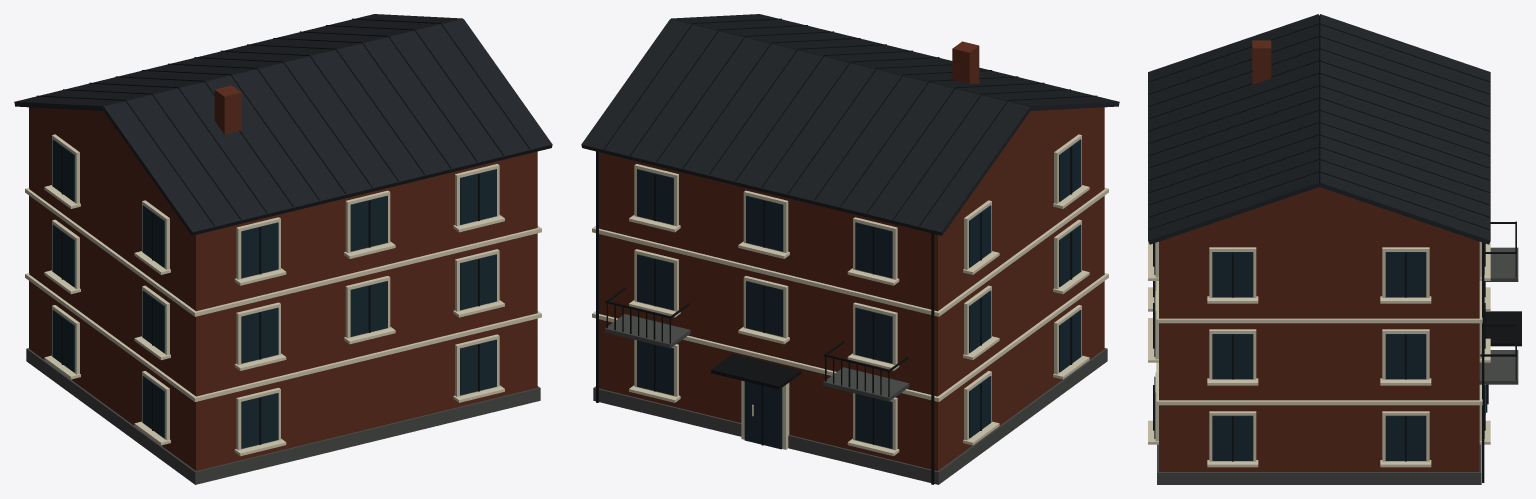
The model's file is 02_BrickApartments.obj.
The picture shows the model from 3 angles, left to right: view 1: azimuth 30°, elevation 25°; view 2: azimuth 150°, elevation 25°; view 3: azimuth 270°, elevation 25°; orthographic projection. The views are drawn at different scales.
Parts seen in each view (by area): view 1: Brick, Roof, Glass, Trim, Base, Metal; view 2: Brick, Roof, Glass, Trim, Metal, Base; view 3: Brick, Roof, Trim, Glass, Metal, Base.
Part boxes in pixels (box(x1,y1,x2,y2)): Brick: box(29, 85, 537, 470); Roof: box(14, 14, 552, 235); Glass: box(52, 139, 496, 448); Trim: box(25, 134, 541, 456); Base: box(26, 348, 540, 484); Metal: box(29, 18, 530, 444); Brick: box(599, 41, 1104, 470); Roof: box(581, 14, 1119, 235); Glass: box(637, 139, 1081, 449); Trim: box(592, 134, 1108, 456); Metal: box(596, 18, 1096, 484); Base: box(593, 314, 1107, 484); Brick: box(1159, 40, 1479, 471); Roof: box(1148, 14, 1490, 244); Trim: box(1148, 241, 1490, 467); Glass: box(1154, 243, 1487, 460); Metal: box(1148, 23, 1521, 482); Base: box(1157, 247, 1518, 484).
Size of the model in its own units: 13.76 by 12.1 by 12.83.
